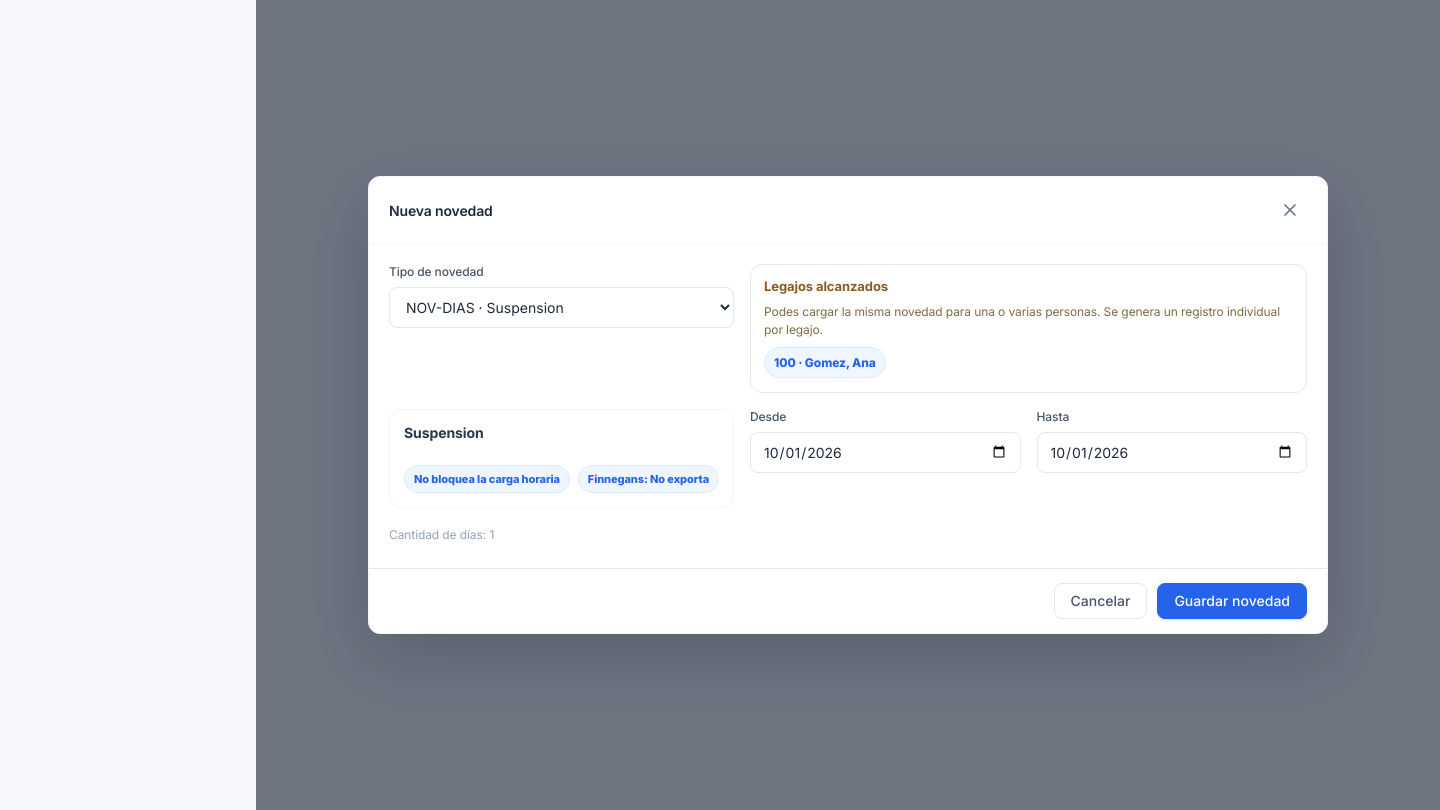
Test: NoveltyModal — Etapa 15L.5 (previsualización de Cantidad de días) › cross-month 30/07 → 02/08: previsualiza 4 días, no sólo los del mes de Desde
expect the text "Suspension" is shown: met, box [404, 424, 484, 441]
Type "2026-07-30" into the date field labelled "Desde" at (885, 452), box [750, 432, 1020, 473]
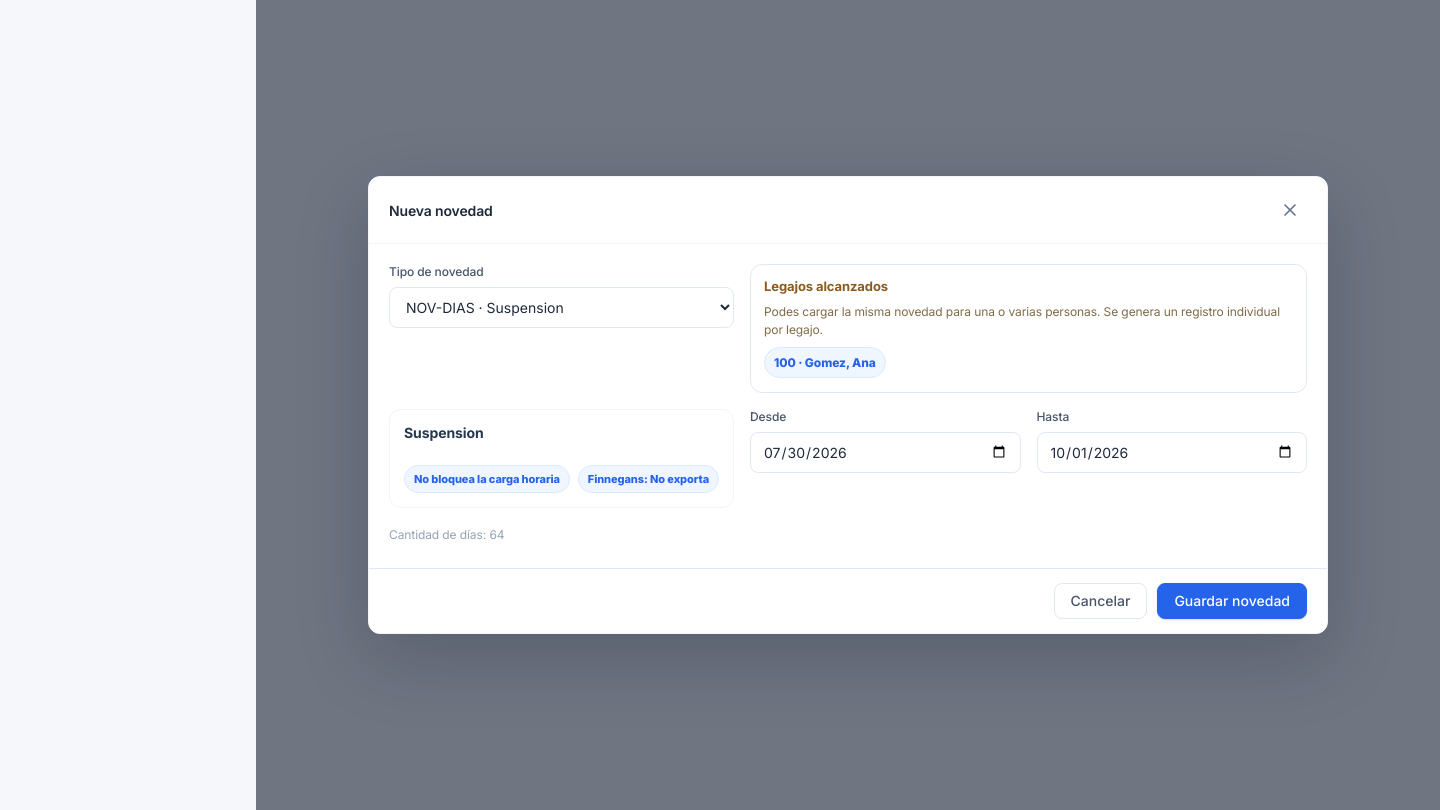
Type "2026-08-02" into the date field labelled "Hasta" at (1172, 452), box [1036, 432, 1307, 473]
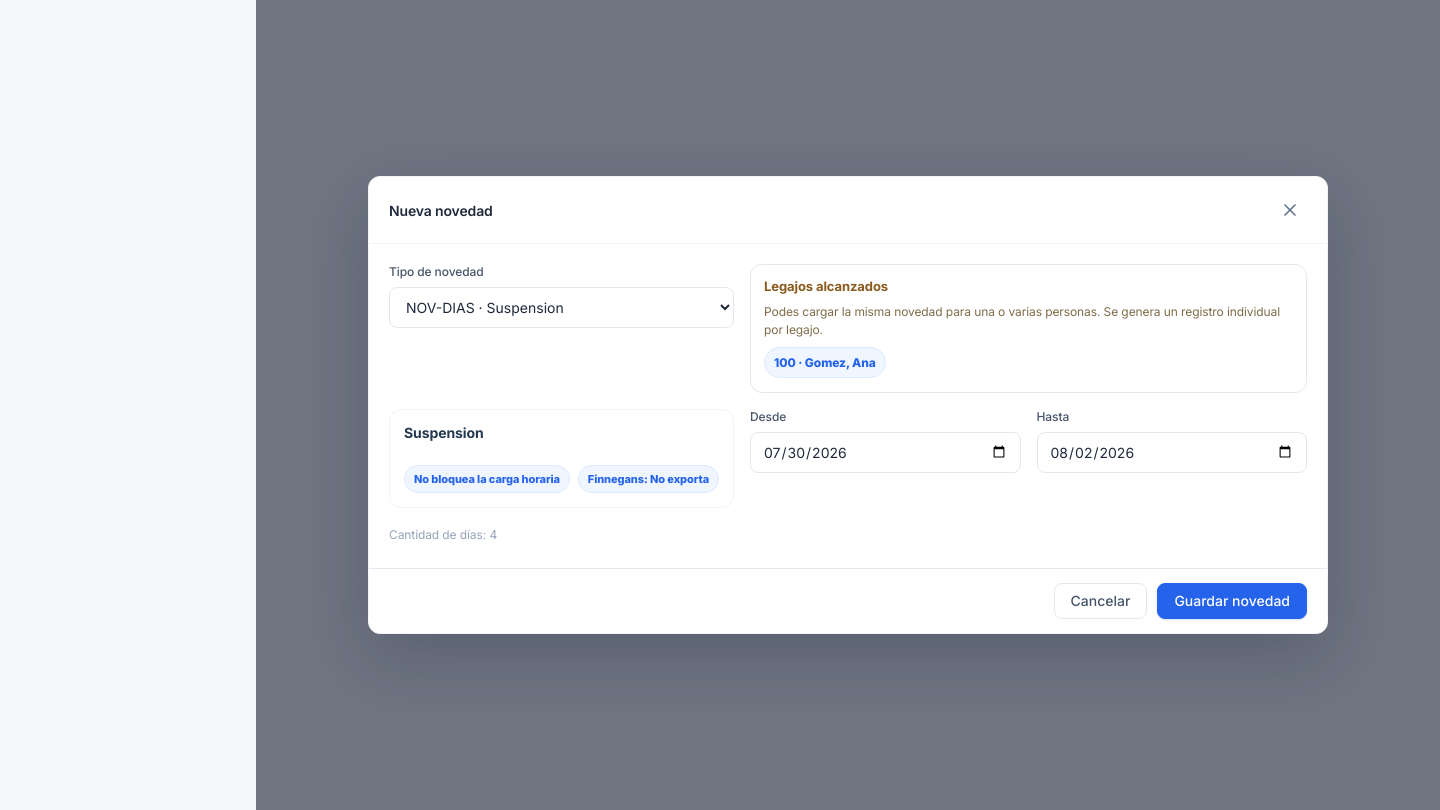
expect the text "Cantidad de días: 4" is shown: met, box [389, 527, 497, 542]
